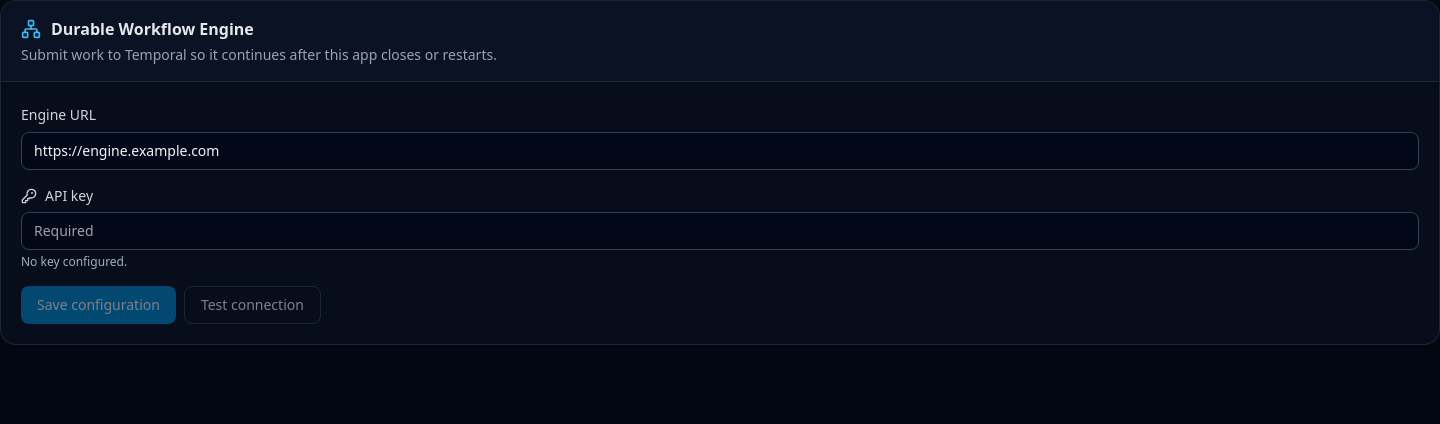
Test: DurableWorkflowSettings › saves configuration and clears the key input
Type "new-key" into the password field with placeholder "Required". click: {"x": 720, "y": 231}
box: 21,212 -> 1419,250
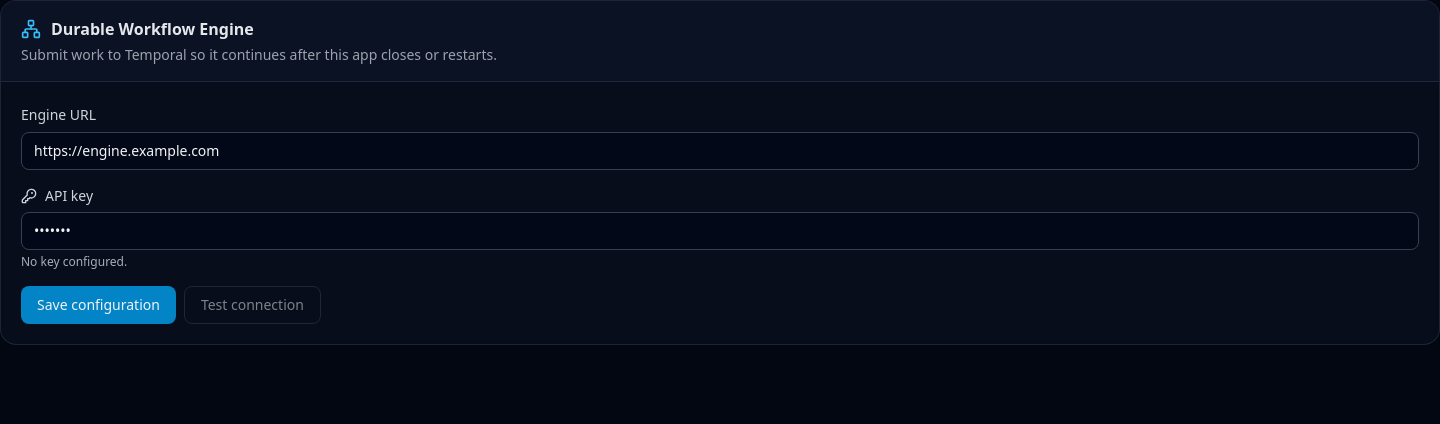
Click the button "Save configuration". click: {"x": 98, "y": 305}
box: 21,286 -> 176,324
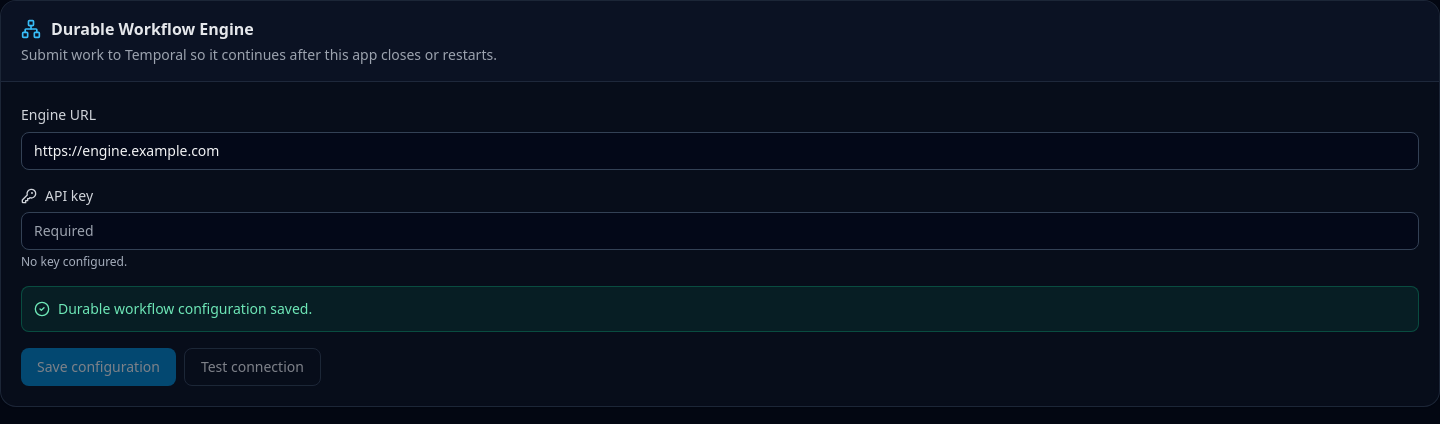
Check: the text "Durable workflow configuration saved." is shown, box 21,286 -> 1419,332
Check: the password field with placeholder "Required" is empty, box 21,212 -> 1419,250
